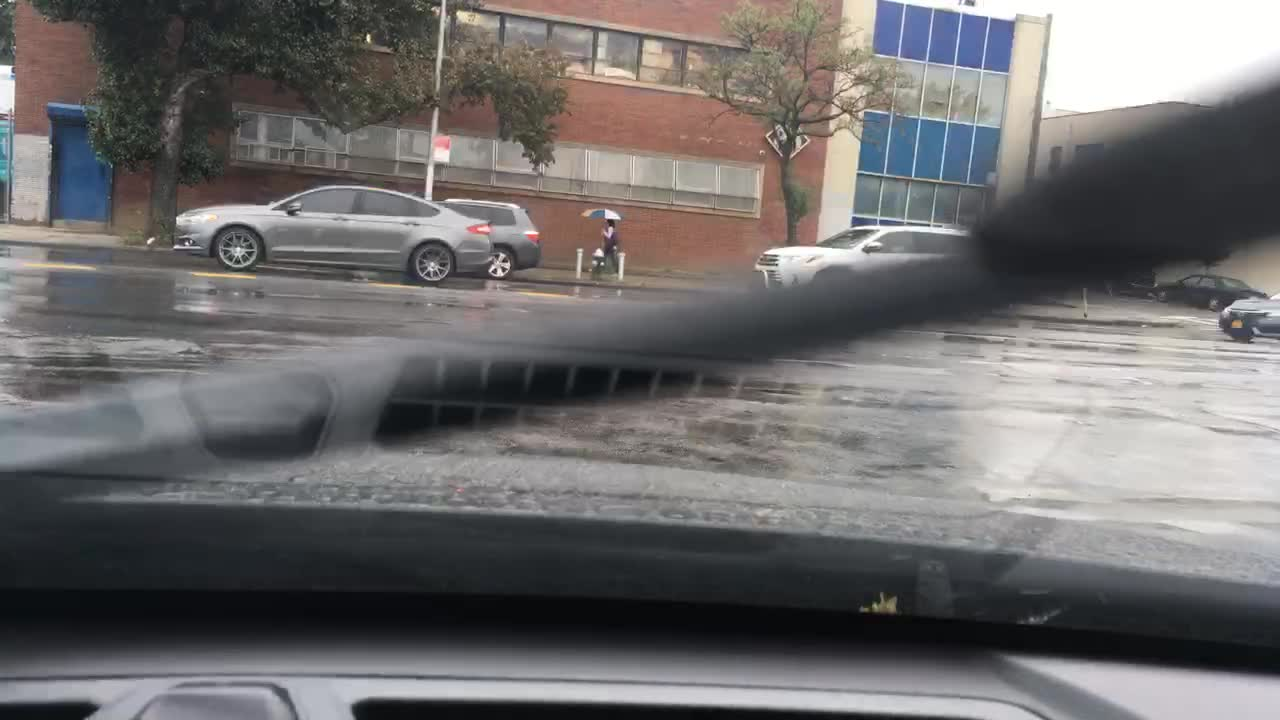car: (170, 182, 491, 285), (751, 221, 969, 291), (428, 196, 542, 280), (1147, 270, 1269, 312), (1215, 290, 1278, 342)
person: (596, 215, 621, 272)
traffic sign: (430, 135, 452, 164)
